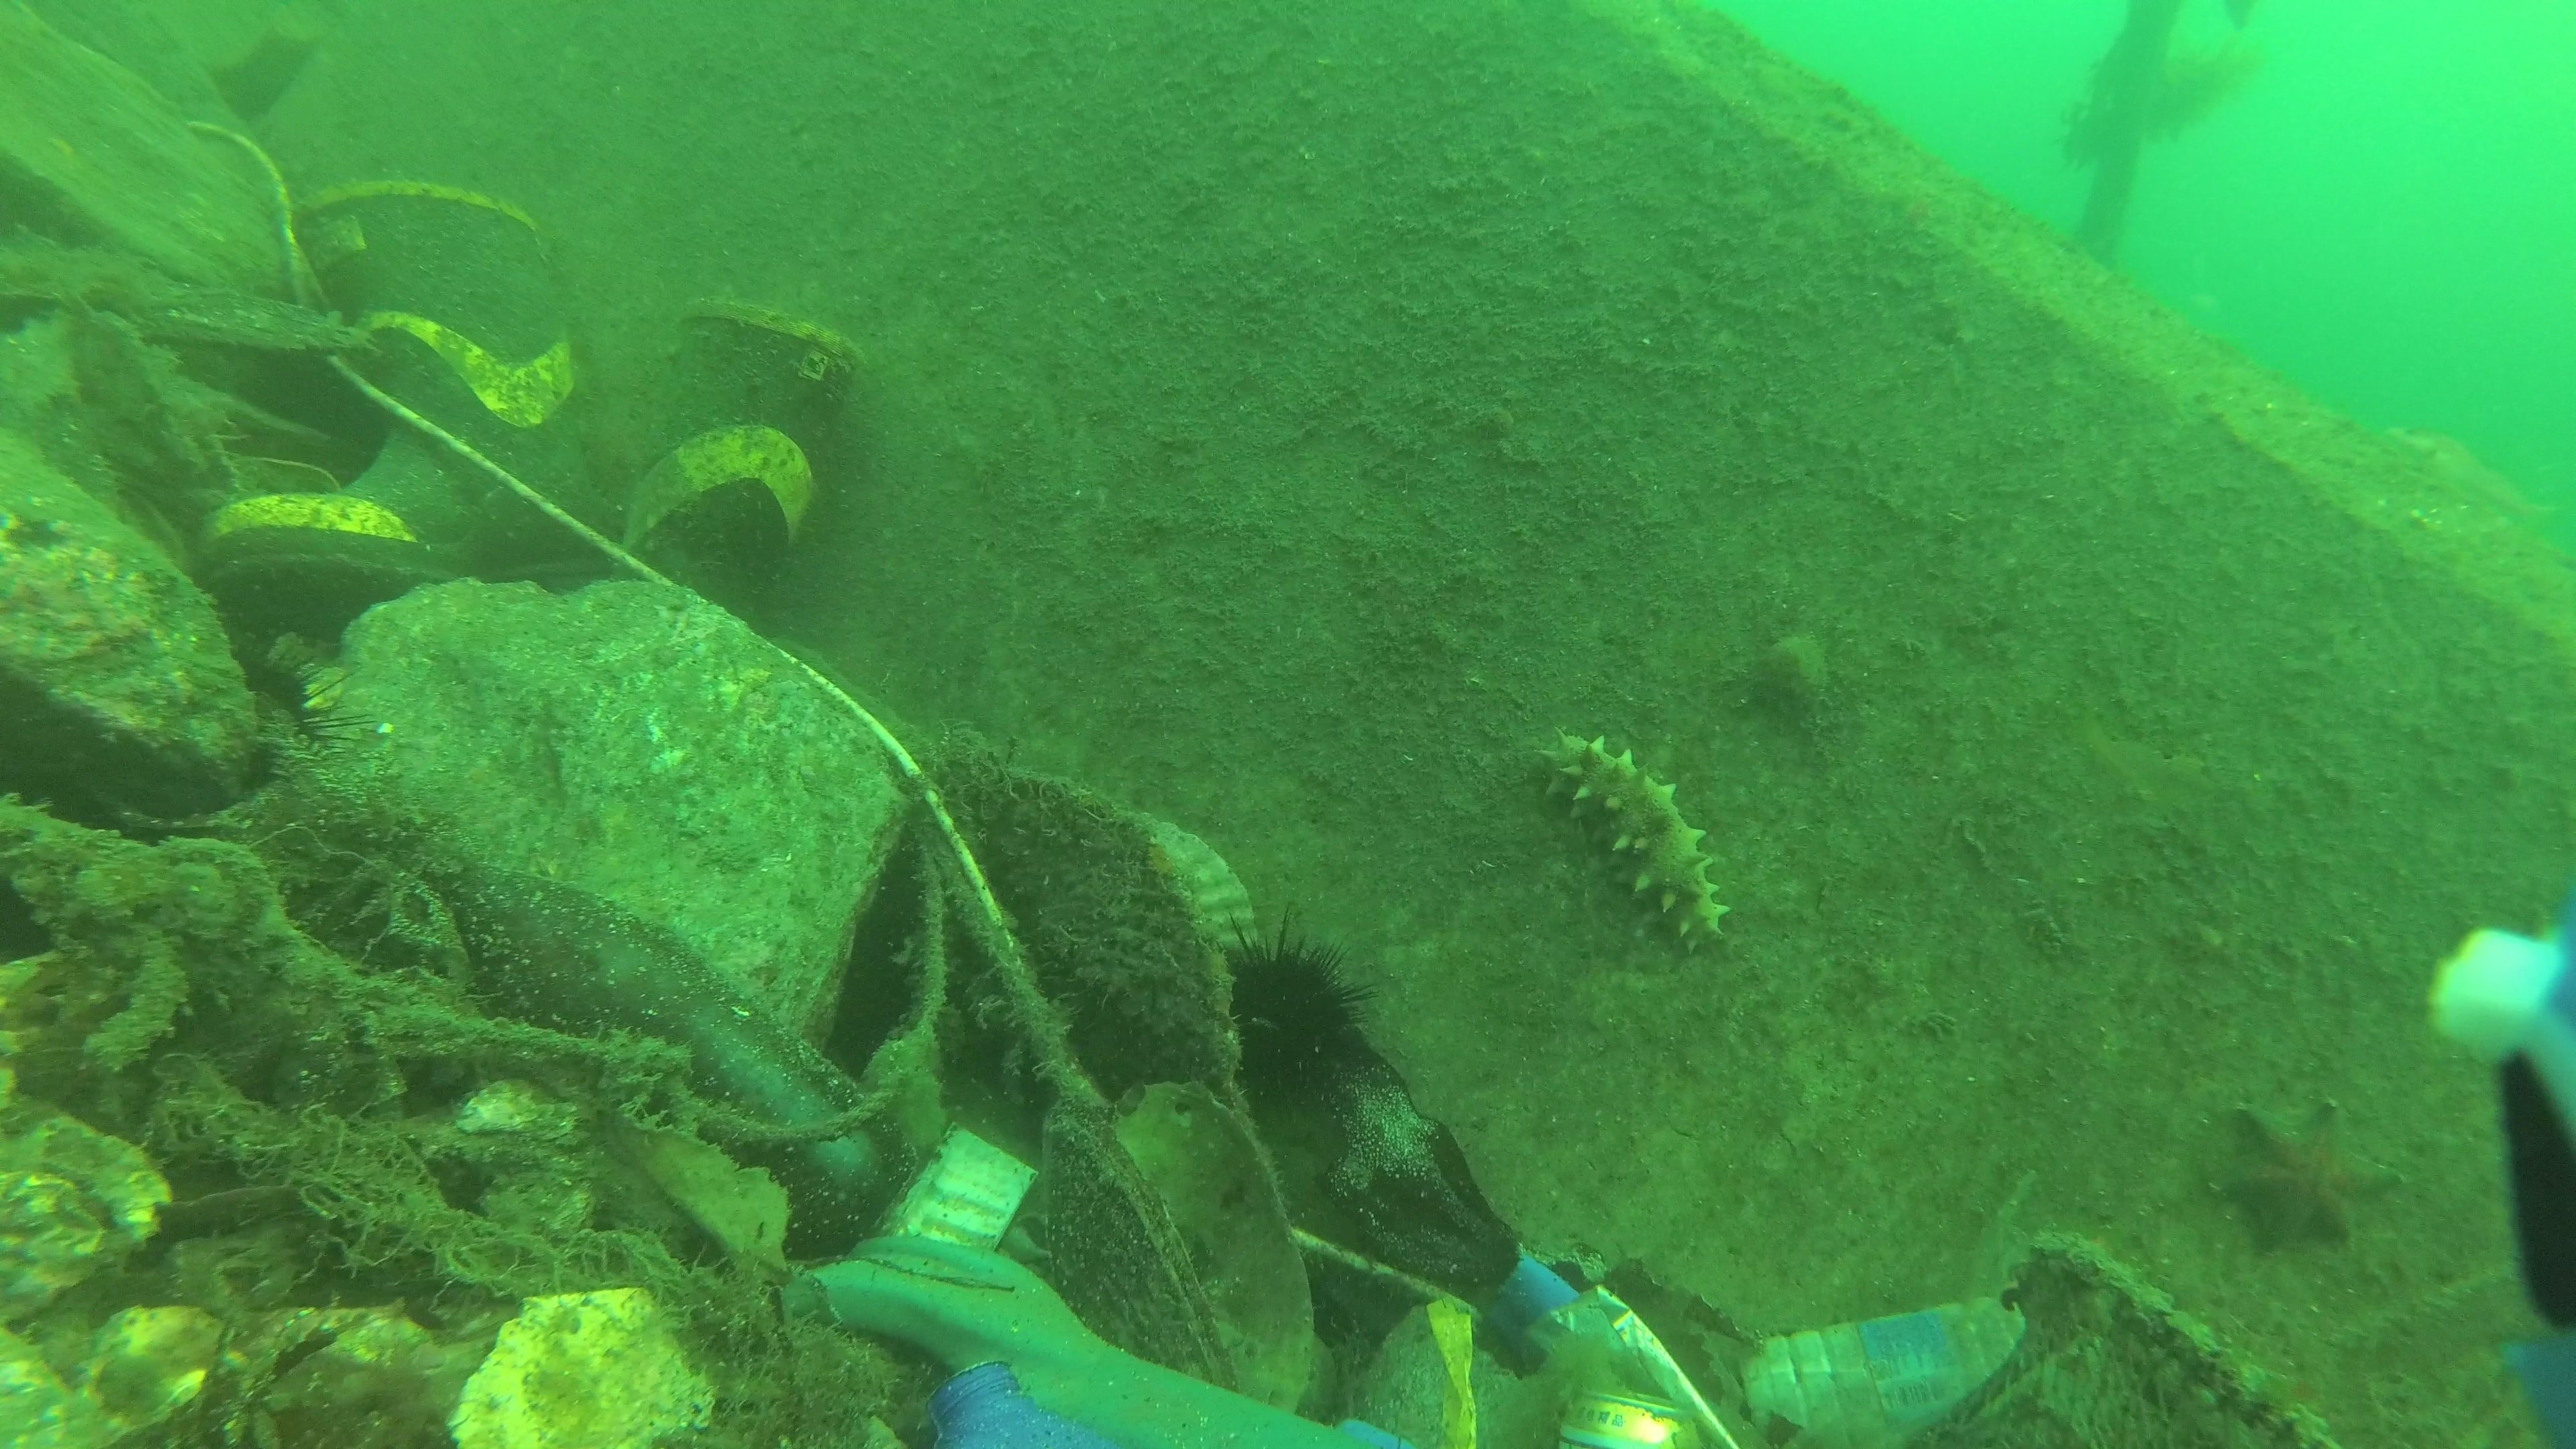echinus: (1214, 901, 1382, 1102), (226, 646, 380, 786)
holothurian: (1529, 722, 1737, 961)
starfish: (2206, 1099, 2415, 1260)
